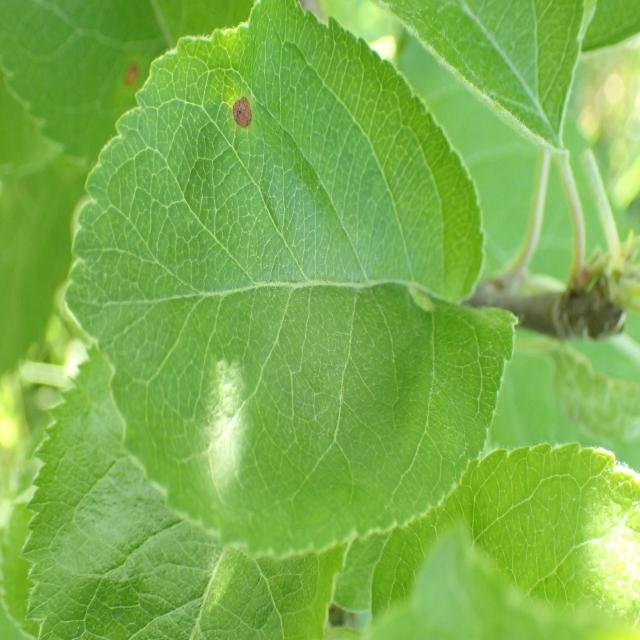Black Rot: (223, 89, 267, 143), (120, 54, 150, 100)
